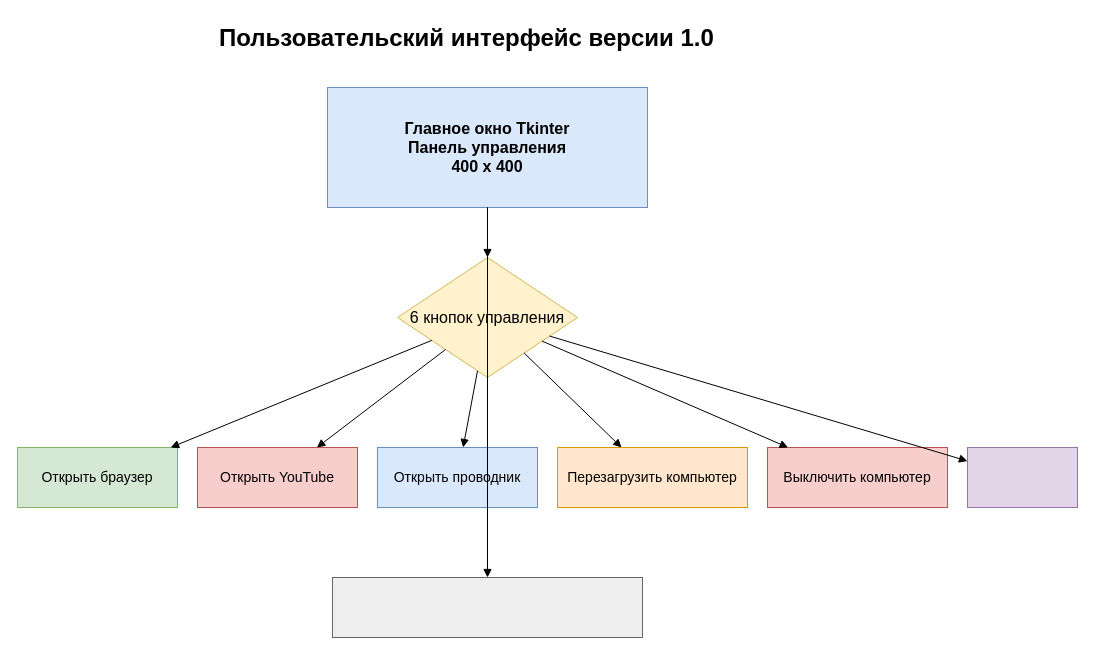
The diagram is 1095 pixels wide and 655 high, and some of its shapes have lost their labels. The shapes that lost their labels are listed below. From the top down, each one's box as (x1, y1, x2, y2) in pixels, then its label:
(966, 446, 1078, 508): Выход
(332, 576, 642, 638): Строка состояния: Выберите действие
